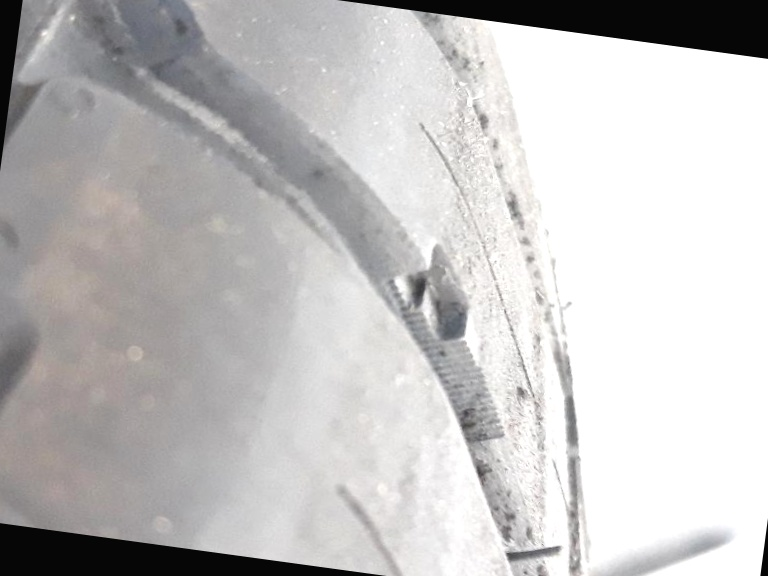temoin:50: (362, 227, 505, 384)
